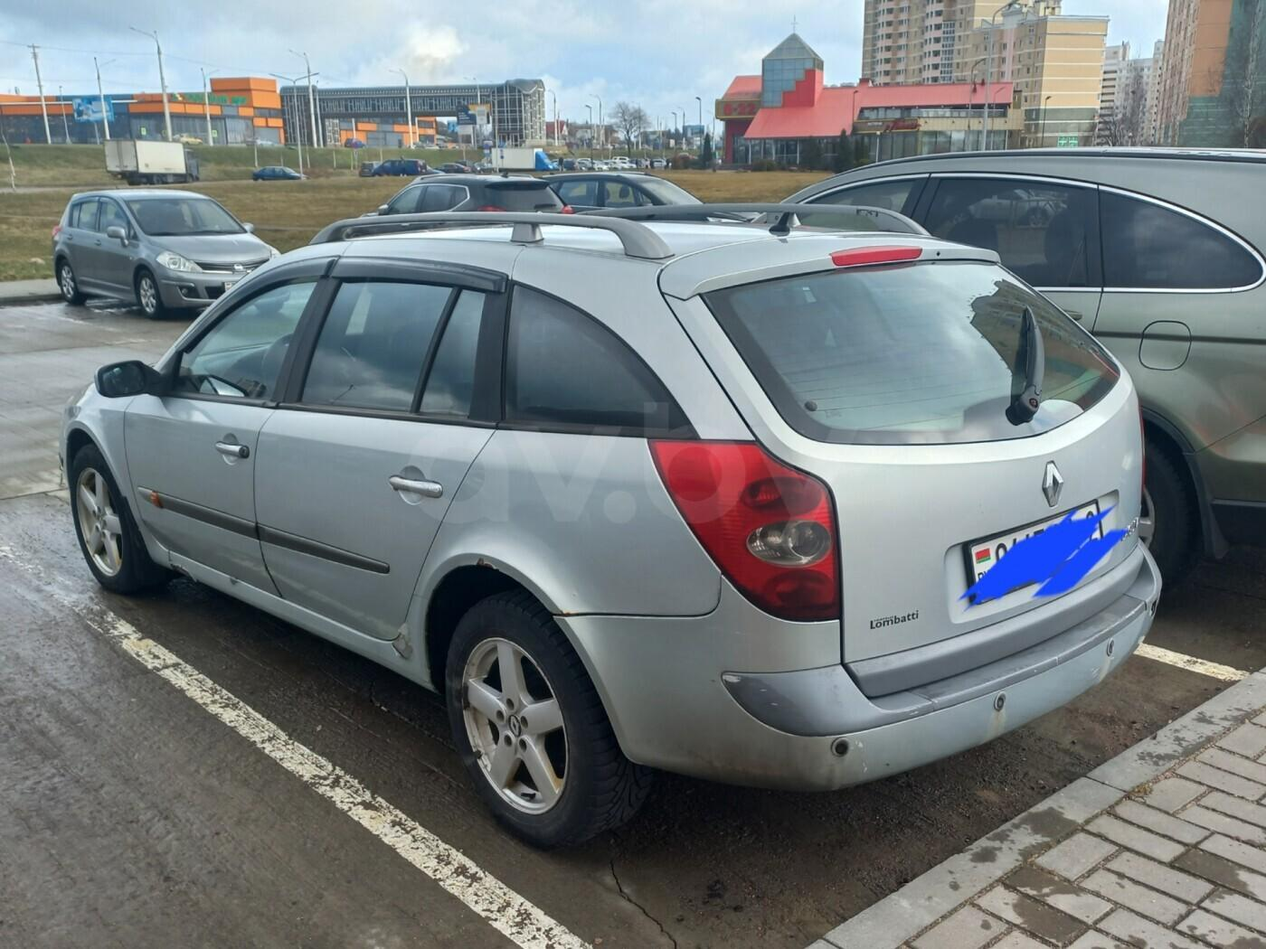Laguna_2001-2005: (59, 212, 1159, 846)
